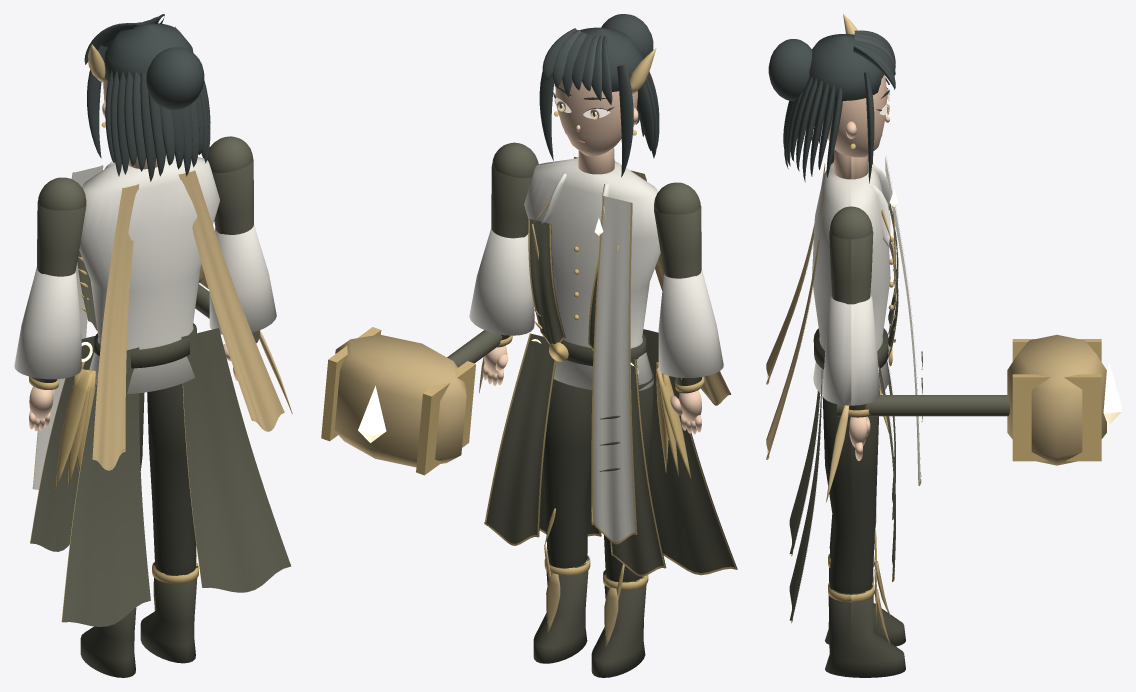
File: character_09.glb
3 views of the same model, side by side, from view 1: azimuth 30°, elevation 25°; view 2: azimuth 150°, elevation 25°; view 3: azimuth 270°, elevation 25° (orthographic). The views are drawn at different scales.
Parts seen in each view (by area): view 1: _MeshInstance3D_2744, _MeshInstance3D_2754, _MeshInstance3D_2750, _MeshInstance3D_2805, _MeshInstance3D_2779, _MeshInstance3D_2766, _MeshInstance3D_2768, _MeshInstance3D_2775, _MeshInstance3D_2748, _MeshInstance3D_2774, _MeshInstance3D_2783, _MeshInstance3D_2784 (+11 smaller); view 2: _MeshInstance3D_2744, _MeshInstance3D_2786, _MeshInstance3D_2763, _MeshInstance3D_2750, _MeshInstance3D_2752, _MeshInstance3D_2779, _MeshInstance3D_2805, _MeshInstance3D_2775, _MeshInstance3D_2784, _MeshInstance3D_2783, _MeshInstance3D_2774, _MeshInstance3D_2789 (+21 smaller); view 3: _MeshInstance3D_2805, _MeshInstance3D_2786, _MeshInstance3D_2779, _MeshInstance3D_2744, _MeshInstance3D_2783, _MeshInstance3D_2784, _MeshInstance3D_2780, _MeshInstance3D_2789, _MeshInstance3D_2792, _MeshInstance3D_2806, _MeshInstance3D_2754, _MeshInstance3D_2807 (+13 smaller).
Part boxes in pixels (left/top/right/bottom): _MeshInstance3D_2744: left=79, top=154, right=219, bottom=393; _MeshInstance3D_2754: left=181, top=328, right=291, bottom=592; _MeshInstance3D_2750: left=62, top=347, right=150, bottom=626; _MeshInstance3D_2805: left=84, top=14, right=210, bottom=176; _MeshInstance3D_2779: left=147, top=383, right=196, bottom=575; _MeshInstance3D_2766: left=93, top=184, right=139, bottom=470; _MeshInstance3D_2768: left=179, top=171, right=284, bottom=431; _MeshInstance3D_2775: left=14, top=267, right=81, bottom=379; _MeshInstance3D_2748: left=30, top=336, right=94, bottom=551; _MeshInstance3D_2774: left=31, top=177, right=86, bottom=389; _MeshInstance3D_2783: left=195, top=136, right=260, bottom=343; _MeshInstance3D_2784: left=209, top=224, right=276, bottom=334; _MeshInstance3D_2744: left=524, top=158, right=660, bottom=390; _MeshInstance3D_2786: left=334, top=334, right=466, bottom=467; _MeshInstance3D_2763: left=593, top=196, right=637, bottom=542; _MeshInstance3D_2750: left=643, top=329, right=737, bottom=572; _MeshInstance3D_2752: left=486, top=333, right=555, bottom=543; _MeshInstance3D_2779: left=543, top=379, right=592, bottom=568; _MeshInstance3D_2805: left=539, top=14, right=657, bottom=177; _MeshInstance3D_2775: left=658, top=269, right=723, bottom=377; _MeshInstance3D_2784: left=469, top=228, right=534, bottom=335; _MeshInstance3D_2783: left=447, top=142, right=538, bottom=367; _MeshInstance3D_2774: left=654, top=182, right=701, bottom=393; _MeshInstance3D_2789: left=321, top=327, right=512, bottom=475; _MeshInstance3D_2805: left=768, top=30, right=895, bottom=183; _MeshInstance3D_2786: left=1007, top=334, right=1106, bottom=465; _MeshInstance3D_2779: left=822, top=396, right=878, bottom=593; _MeshInstance3D_2744: left=812, top=161, right=890, bottom=394; _MeshInstance3D_2783: left=829, top=206, right=1009, bottom=417; _MeshInstance3D_2784: left=822, top=295, right=879, bottom=405; _MeshInstance3D_2780: left=825, top=585, right=905, bottom=677; _MeshInstance3D_2789: left=848, top=339, right=1101, bottom=461; _MeshInstance3D_2792: left=822, top=75, right=889, bottom=157; _MeshInstance3D_2806: left=784, top=78, right=835, bottom=171; _MeshInstance3D_2754: left=789, top=360, right=822, bottom=622; _MeshInstance3D_2807: left=783, top=76, right=828, bottom=176.
Bounding box in the file's own units: 1.27 × 2.6 × 1.36.
